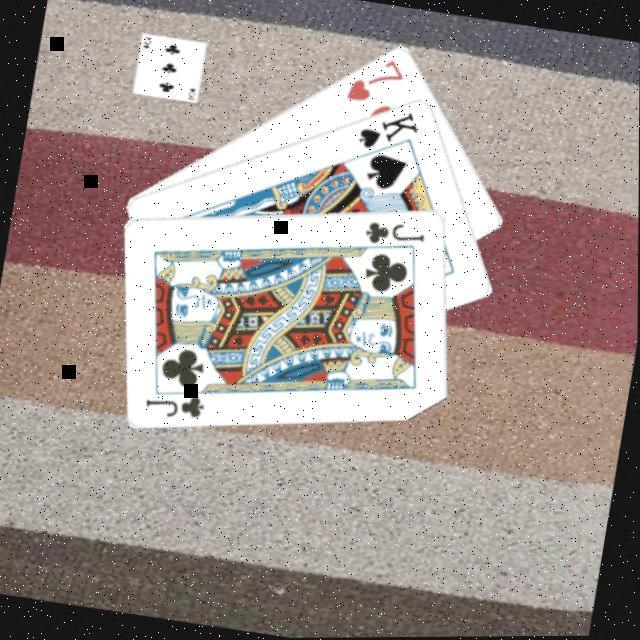7H: (341, 48, 408, 109)
JC: (360, 212, 430, 252), (139, 383, 209, 423)
KS: (352, 99, 422, 157)
